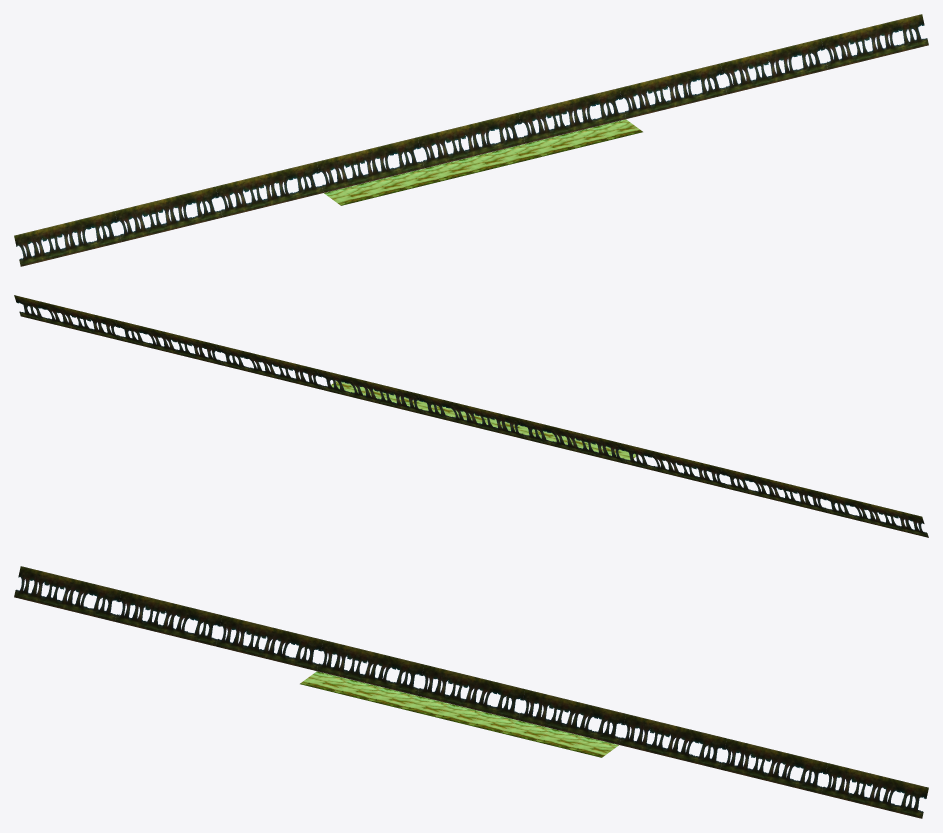
File: test_stage01_fw_06_big.fbx
3 views of the same model, one above another, from view 1: azimuth 30°, elevation 25°; view 2: azimuth 150°, elevation 25°; view 3: azimuth 330°, elevation 25° (orthographic).
Visible parts, largest first — view 1: st_stage; view 2: st_stage; view 3: st_stage.
Part boxes in pixels (bbox=[...]): st_stage: bbox=[14, 14, 928, 266]; st_stage: bbox=[14, 295, 928, 537]; st_stage: bbox=[14, 566, 928, 818].
Bounding box in the file's own units: 600 × 16.67 × 27.76.
